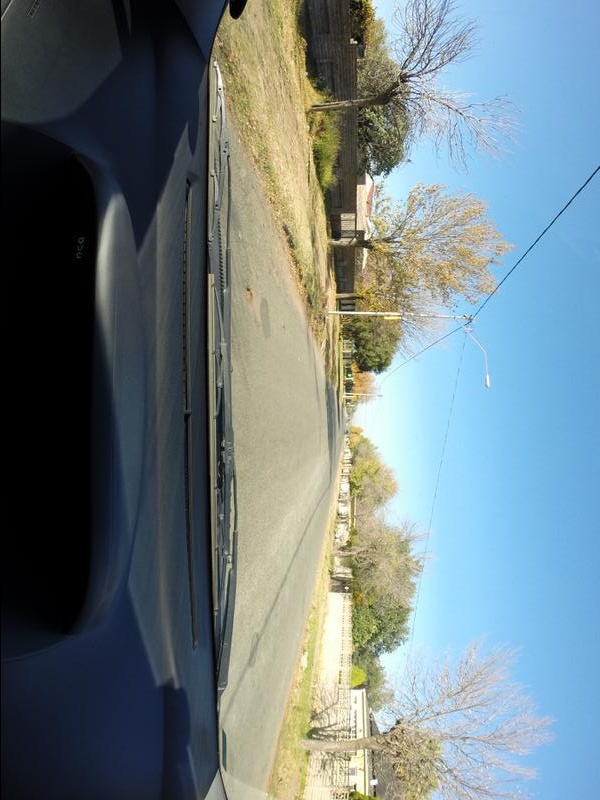pothole: (245, 283, 256, 309)
